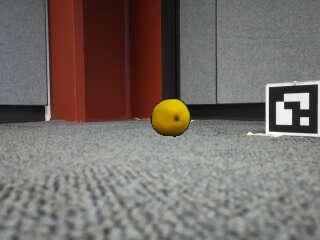lemon: (152, 99, 189, 136)
